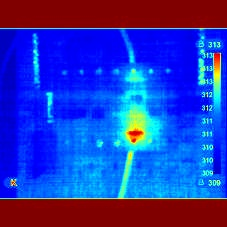High: (111, 102, 163, 156)
